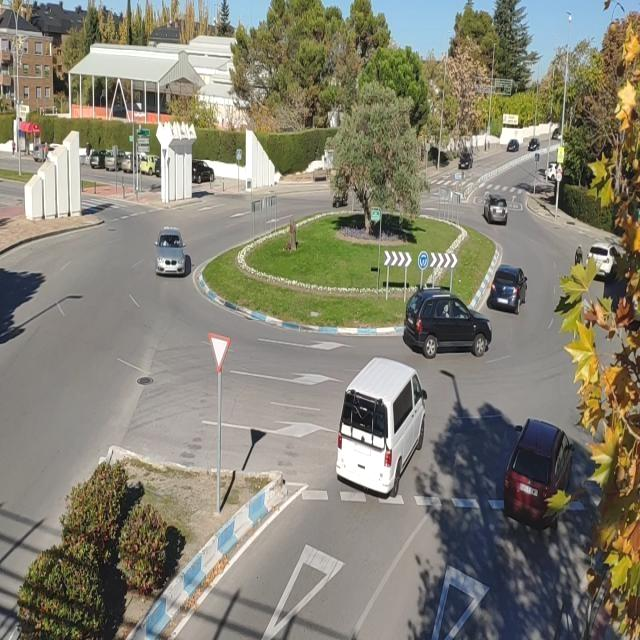Car: (486, 413, 594, 527), (388, 287, 505, 354), (135, 220, 199, 276), (487, 266, 533, 316), (478, 180, 516, 234), (577, 236, 619, 278)
Van: (320, 360, 428, 510)
